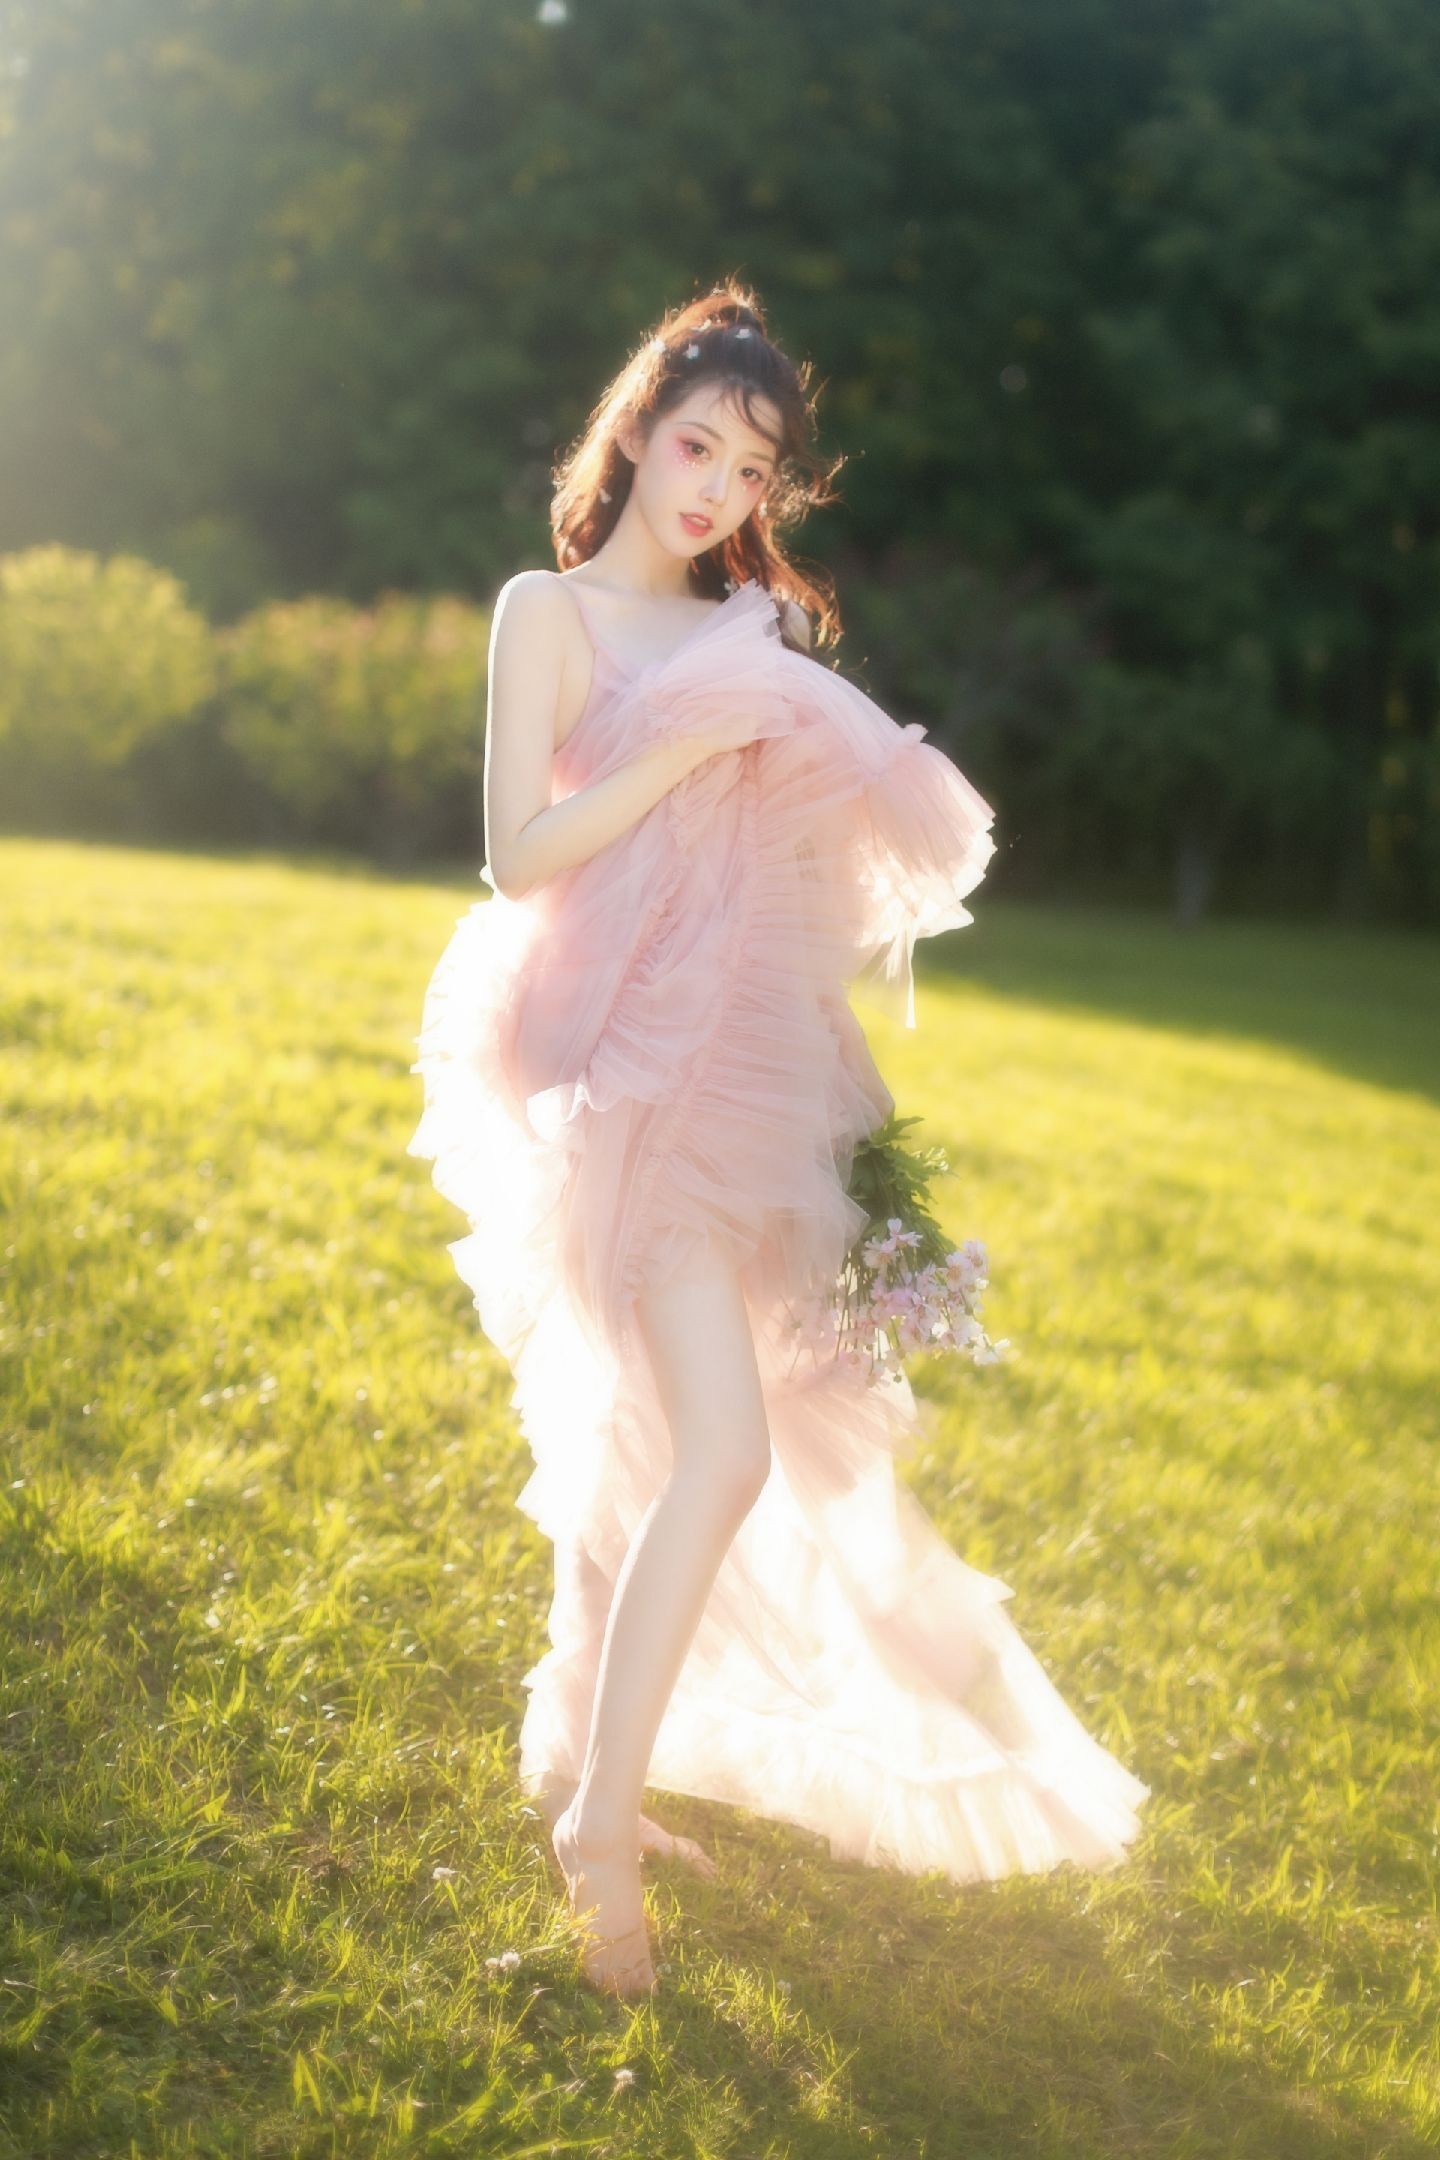person: (393, 289, 1183, 1830)
